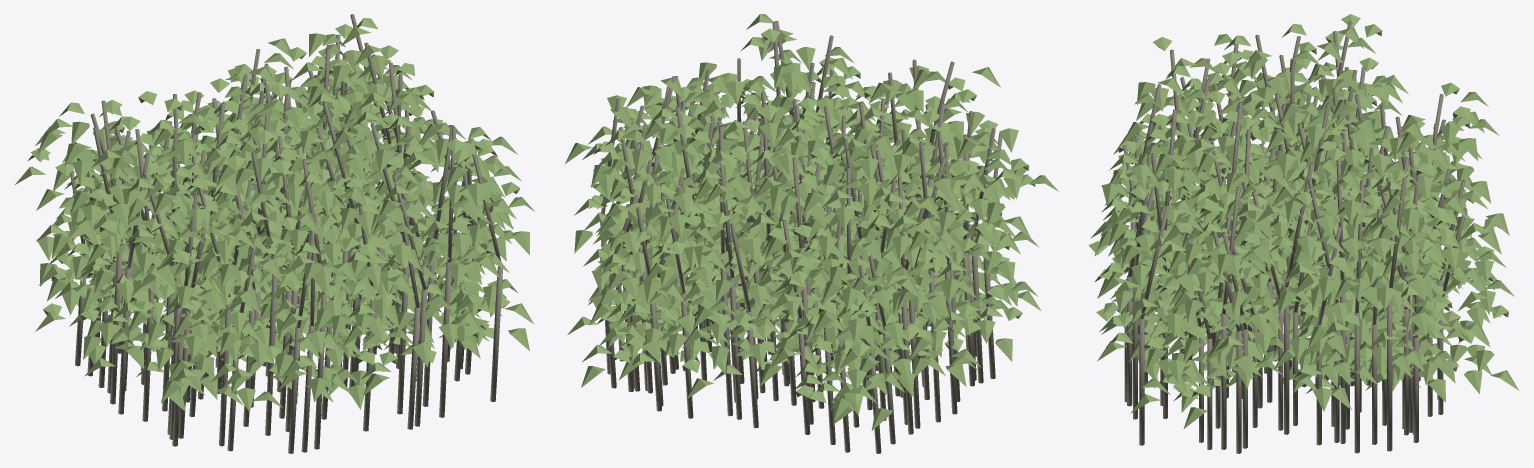
Rendered from dongpo-rear-green.glb.
The picture shows the model from 3 angles, left to right: view 1: azimuth 30°, elevation 25°; view 2: azimuth 150°, elevation 25°; view 3: azimuth 270°, elevation 25°; orthographic projection.
Parts seen in each view (by area): view 1: dongpo-rear-green; view 2: dongpo-rear-green; view 3: dongpo-rear-green.
Boxes of the visible parts, left/top/right/bottom form: dongpo-rear-green: left=15, top=14, right=534, bottom=453; dongpo-rear-green: left=565, top=14, right=1058, bottom=453; dongpo-rear-green: left=1088, top=14, right=1518, bottom=453.
Size of the model in its own units: 2.8 by 1.88 by 2.56.
